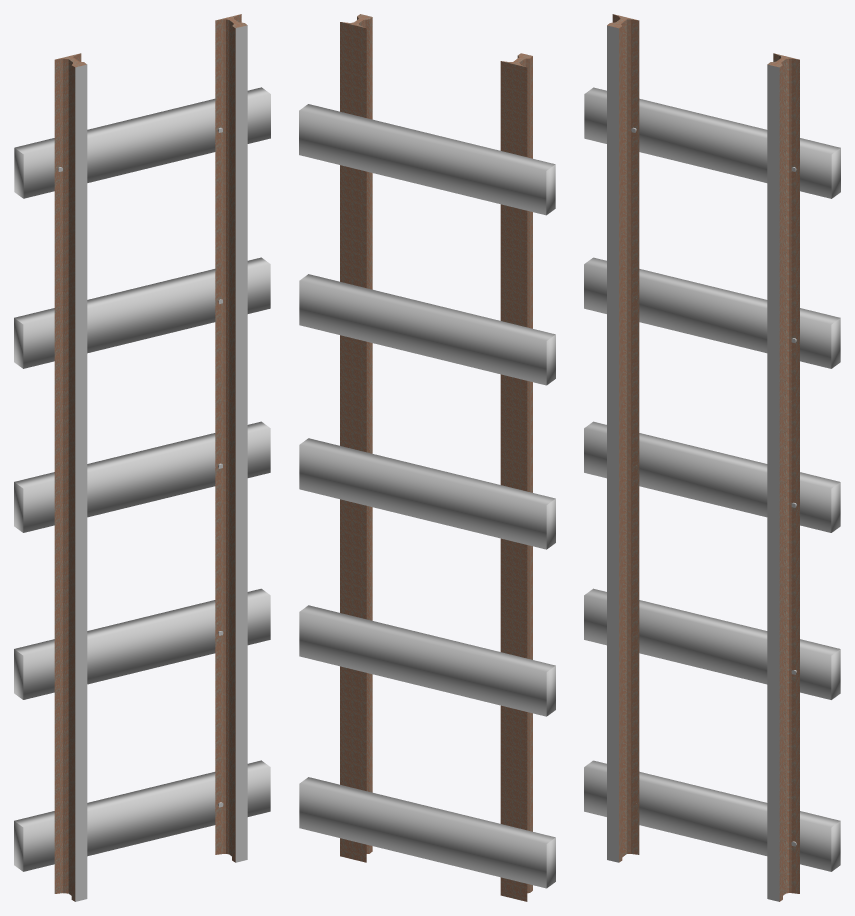
Rendered from Sec 4.fbx.
The picture shows the model from 3 angles, left to right: view 1: azimuth 30°, elevation 25°; view 2: azimuth 150°, elevation 25°; view 3: azimuth 330°, elevation 25°; orthographic projection.
Parts seen in each view (by area): view 1: Tr_Sec_3; view 2: Tr_Sec_3; view 3: Tr_Sec_3.
Part boxes in pixels (x1,y1,x2,y2): Tr_Sec_3: (14, 14, 270, 901); Tr_Sec_3: (299, 14, 555, 901); Tr_Sec_3: (584, 14, 840, 901).
Bounding box in the file's own units: 0.0466 × 0.1502 × 0.00776.
